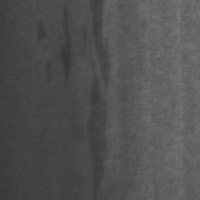inclusion: (83, 1, 115, 197), (55, 2, 79, 89), (32, 18, 53, 51)
